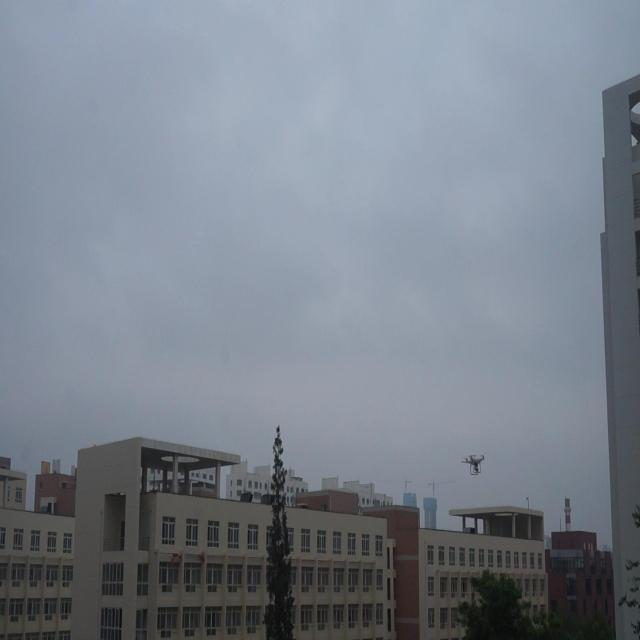drone: (462, 452, 487, 476)
